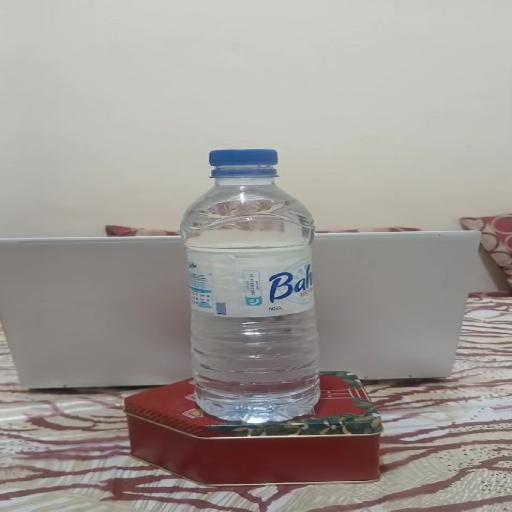bouteille non conformite: (141, 130, 358, 432)
